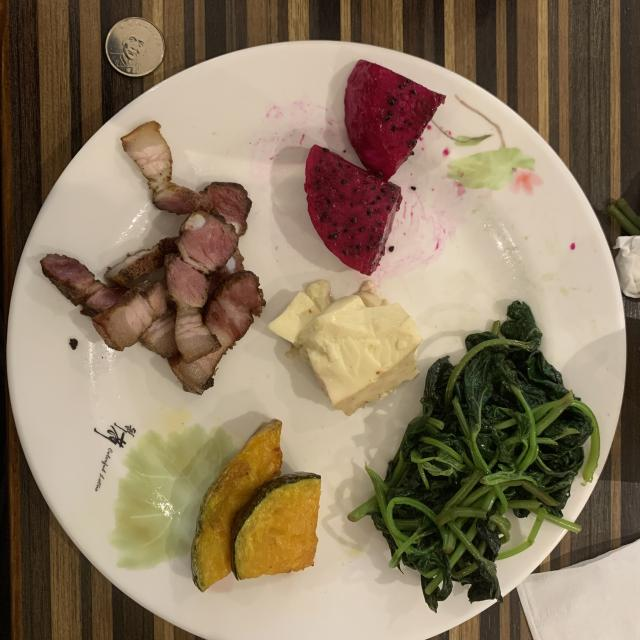coin: (105, 18, 165, 76)
grilled pork: (41, 121, 265, 394)
pumpkin: (191, 419, 321, 591)
sweet potato leaves: (350, 301, 599, 610)
